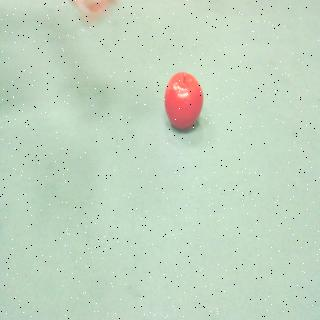apple: (161, 69, 211, 137)
